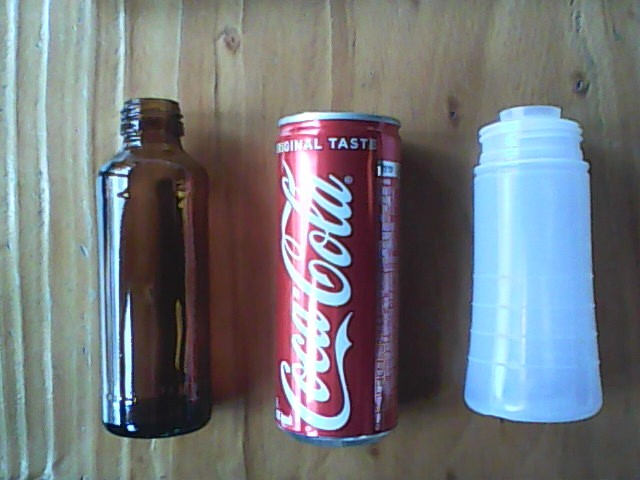Can: (268, 101, 405, 449)
Glass: (89, 91, 216, 442)
Plastic: (457, 99, 607, 427)
